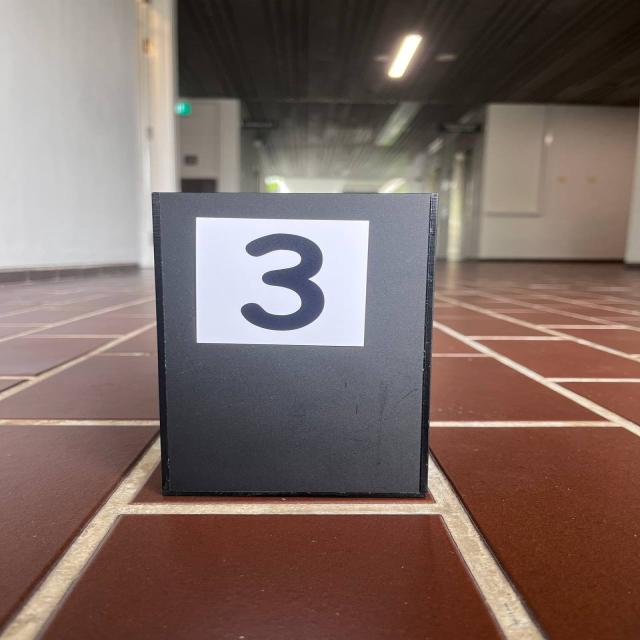three_id13: (196, 217, 371, 348)
